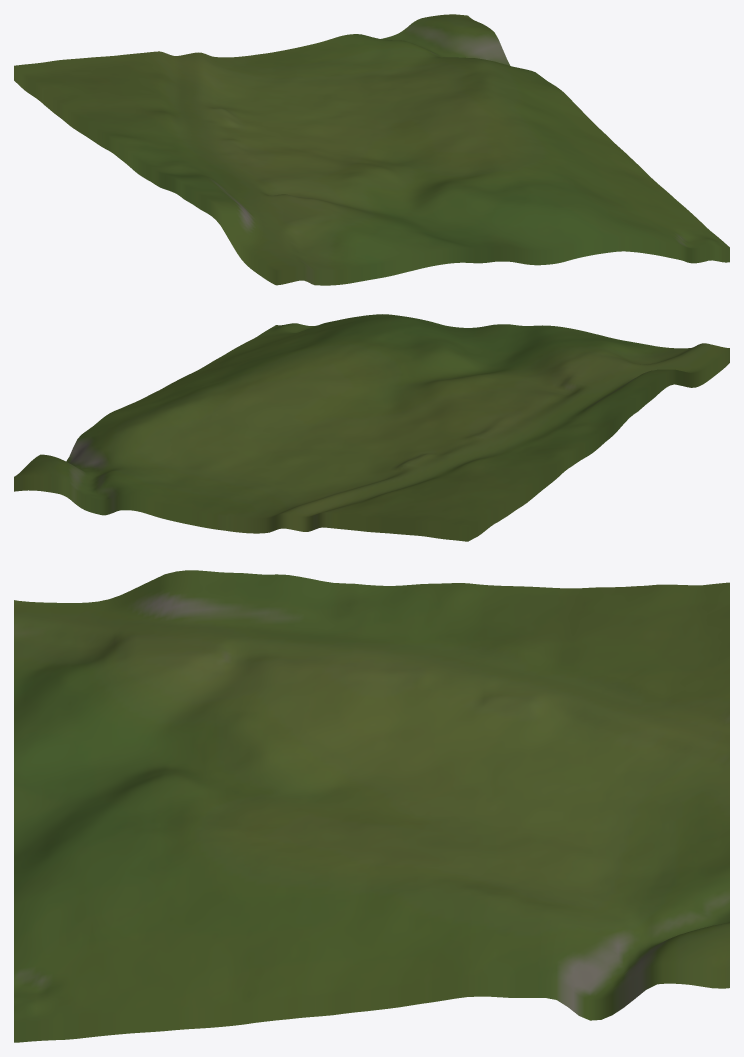
The model's file is terrain_8_-19.glb.
The picture shows the model from 3 angles, top to bottom: view 1: azimuth 30°, elevation 25°; view 2: azimuth 150°, elevation 25°; view 3: azimuth 270°, elevation 25°; orthographic projection. The views are drawn at different scales.
Parts seen in each view (by area): view 1: terrain_8_-19; view 2: terrain_8_-19; view 3: terrain_8_-19.
Boxes of the visible parts, x1=… form: terrain_8_-19: x1=14, y1=14, x2=729, y2=285; terrain_8_-19: x1=14, y1=314, x2=729, y2=541; terrain_8_-19: x1=14, y1=570, x2=729, y2=1042.
Size of the model in its own units: 256 by 67.03 by 256.
